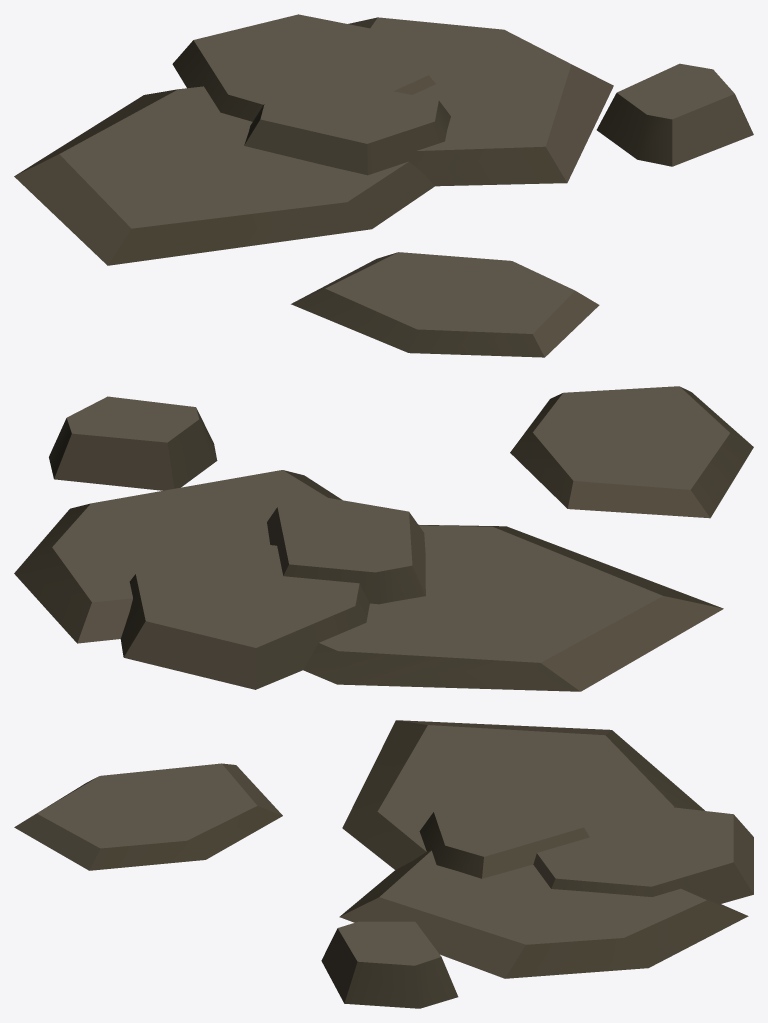
Rendered from MediumMore_SF_Env_Undead_Rock_03.fbx.
The picture shows the model from 3 angles, top to bottom: view 1: azimuth 30°, elevation 25°; view 2: azimuth 150°, elevation 25°; view 3: azimuth 270°, elevation 25°; orthographic projection. The views are drawn at different scales.
Visible parts, largest first — view 1: SF_Env_Undead_Rock_03; view 2: SF_Env_Undead_Rock_03; view 3: SF_Env_Undead_Rock_03.
Boxes of the visible parts, x1,y1,x2,y2 form: SF_Env_Undead_Rock_03: [14, 14, 753, 357]; SF_Env_Undead_Rock_03: [14, 386, 753, 691]; SF_Env_Undead_Rock_03: [14, 720, 753, 1008].
Size of the model in its own units: 621 by 36.69 by 673.
